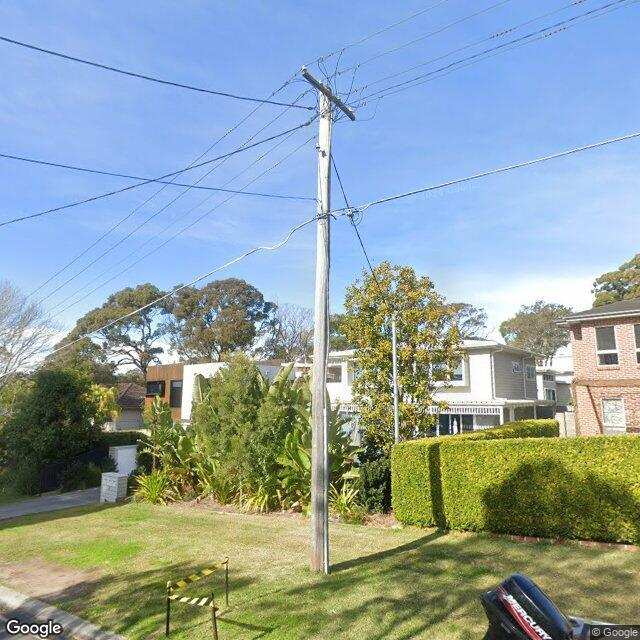crossarm: (301, 68, 356, 122)
steel-pole: (390, 312, 400, 442)
timber-pole: (310, 92, 330, 572)
